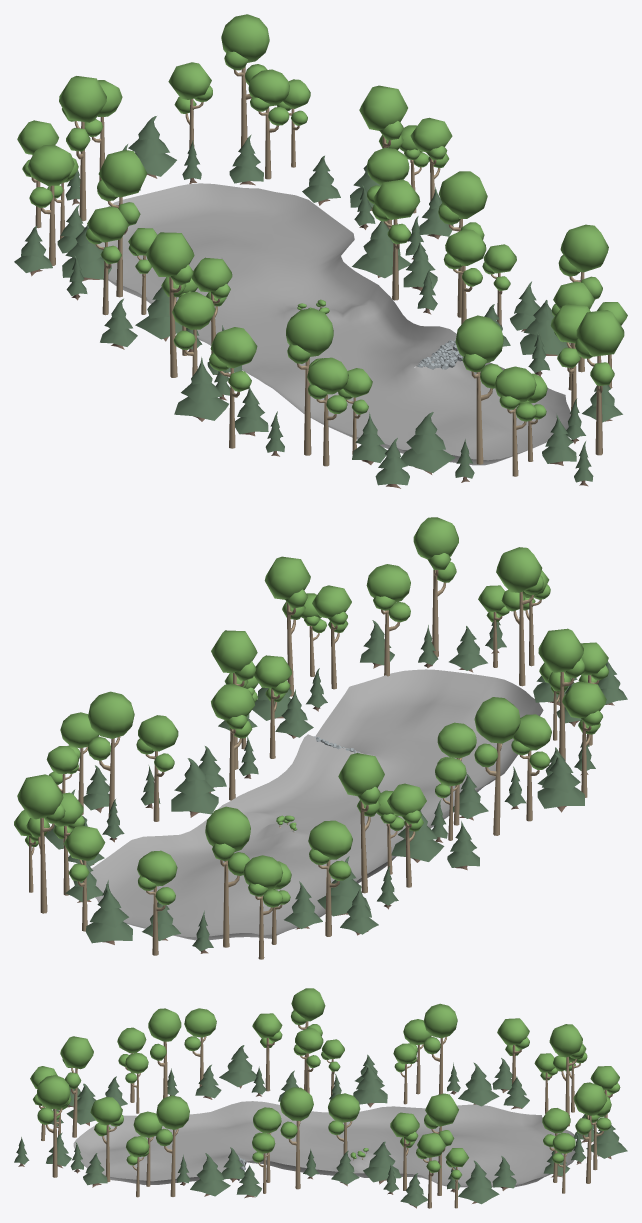
The model's file is course_test_mesh.fbx.
3 views of the same model, one above another, from view 1: azimuth 30°, elevation 25°; view 2: azimuth 150°, elevation 25°; view 3: azimuth 270°, elevation 25° (orthographic). The views are drawn at different scales.
Visible parts, largest first — view 1: course_mesh; view 2: course_mesh; view 3: course_mesh.
Part boxes in pixels (x1,y1,x2,y2): course_mesh: (14,14,627,488); course_mesh: (14,517,627,959); course_mesh: (14,988,627,1208).
Bounding box in the file's own units: 2259 × 848 × 4188.
